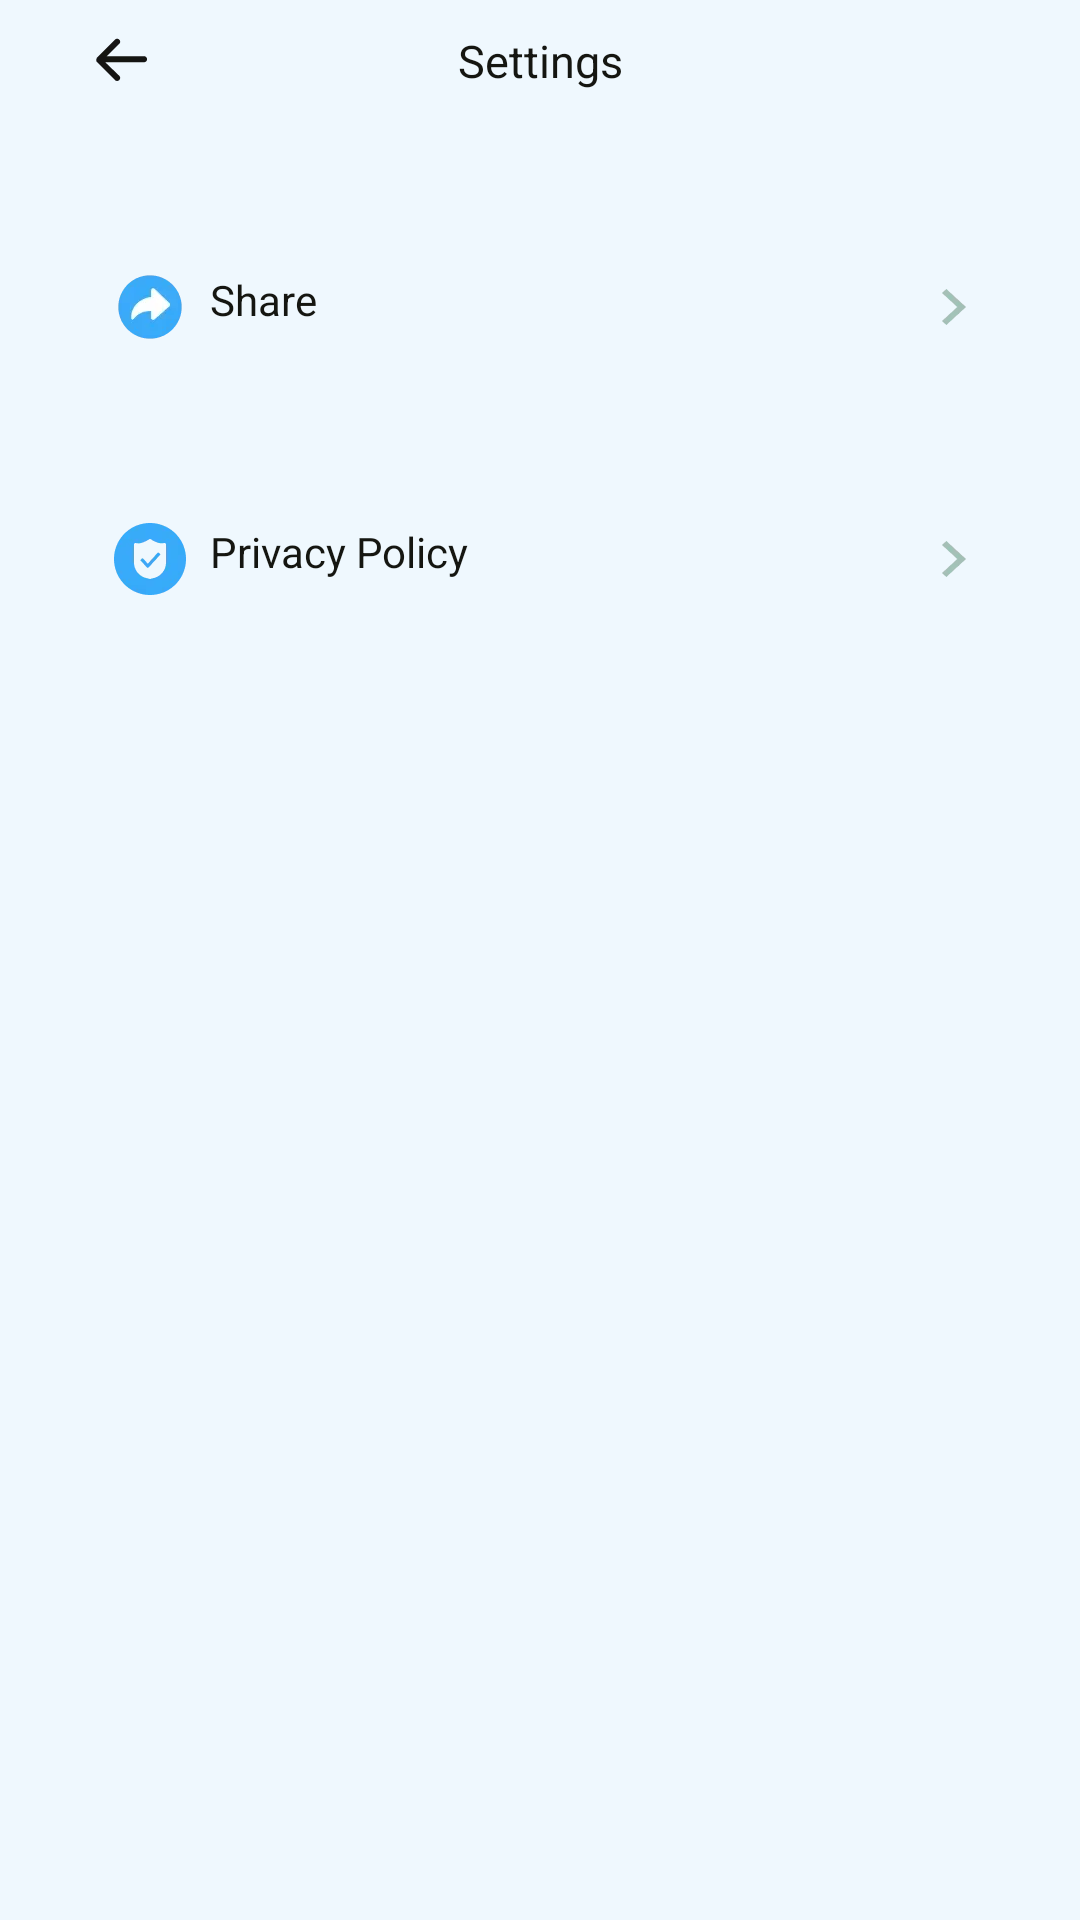

Named icons in this screenshot (1080px x 1920px) and their bounding boxes, {"left": x1, "top": y1, "right": x2, "bottom": y2}:
tui hei: {"left": 96, "top": 38, "right": 147, "bottom": 81}
